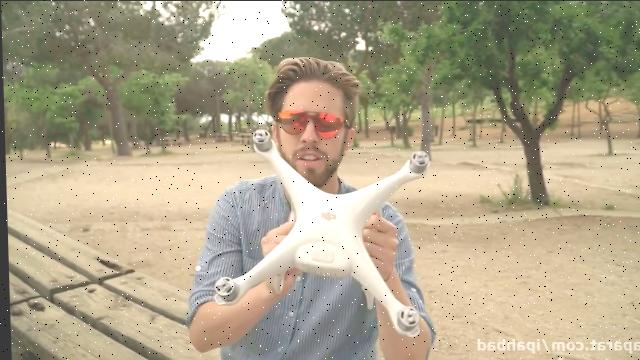drone: (207, 127, 432, 337)
